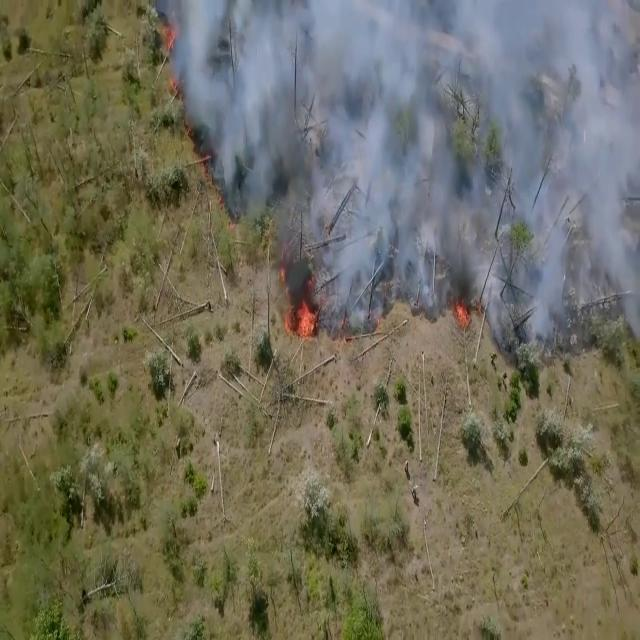Fire: (288, 288, 318, 344)
Smoke: (168, 0, 640, 330)
